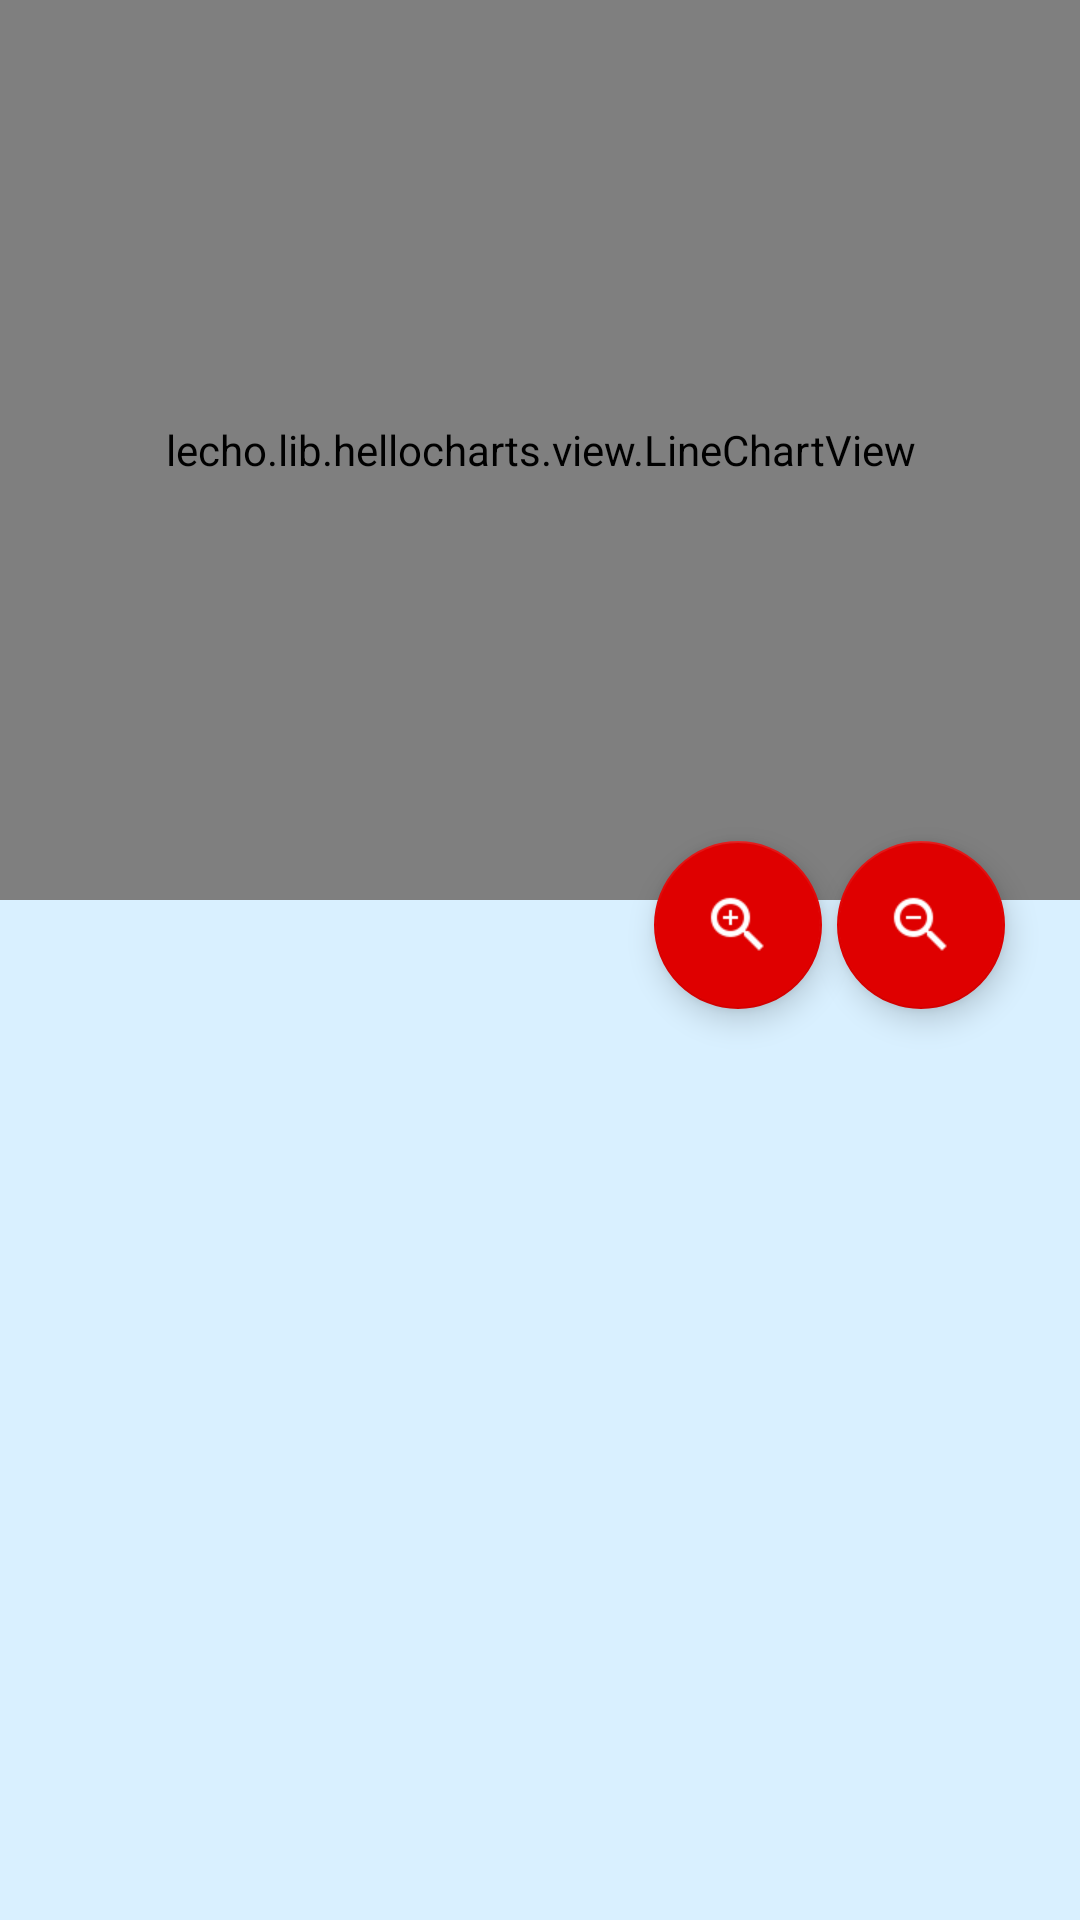

Icon click points for this 1080w x 1920h phone screenshot, format (x,y):
zoom in: (738,925)
zoom out: (921,925)
